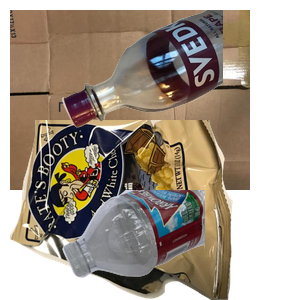cardboard: (10, 10, 250, 190)
glass: (60, 10, 300, 130)
plastic: (60, 190, 300, 280)
trash: (10, 120, 235, 300)
